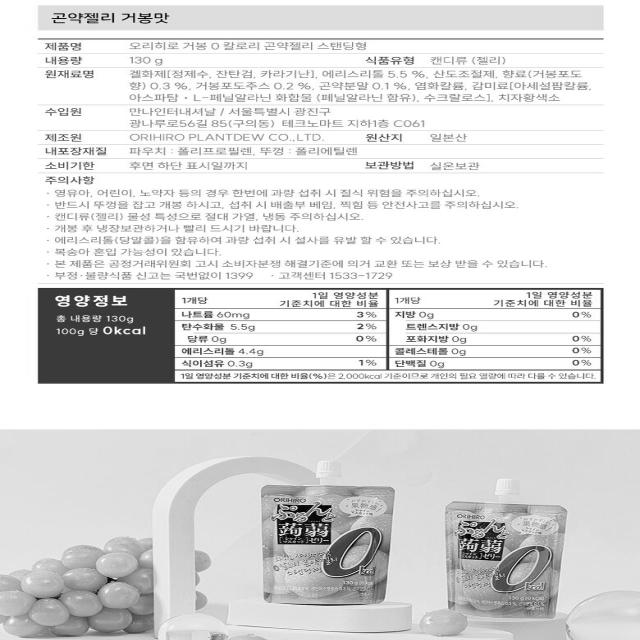Nutrition Label: (28, 287, 617, 401)
